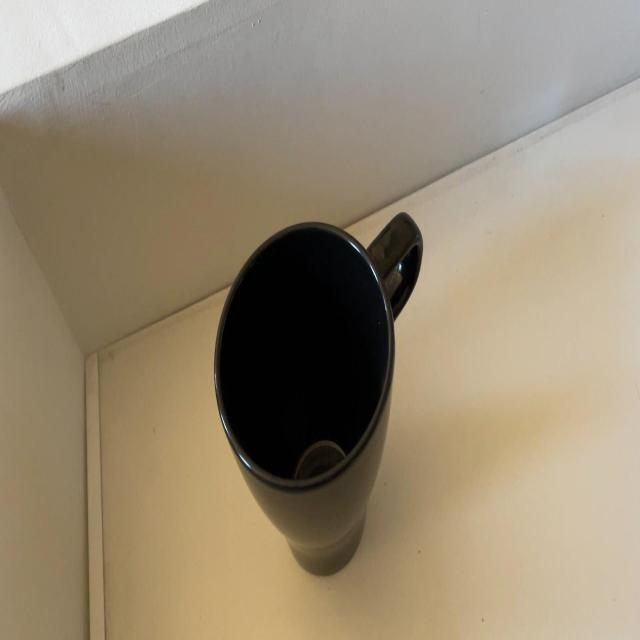cup: (214, 215, 426, 580)
